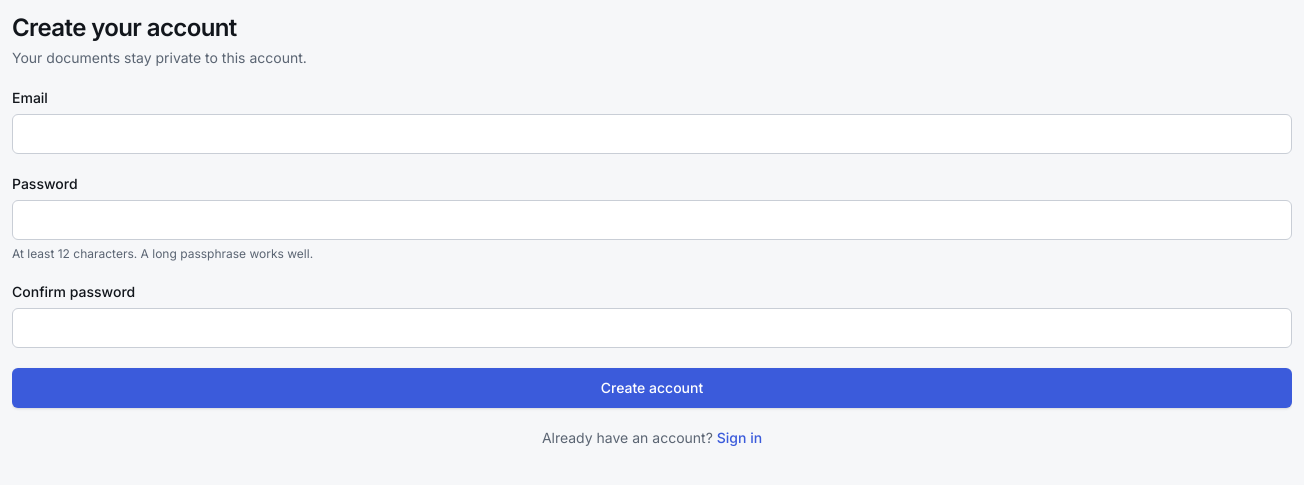
it: register form › enforces the password policy and the confirmation
Type "fixture@example.test" into the field labelled "Email" at (652, 134), box [12,114,1292,154]
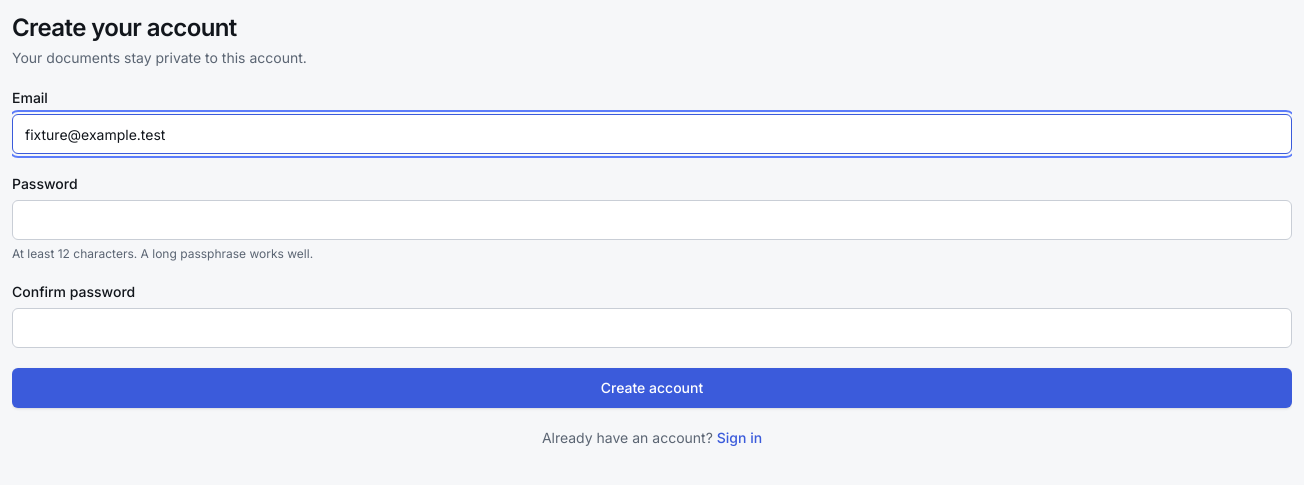
Type "short" into the password field labelled "Password" at (652, 220), box [12,200,1292,240]
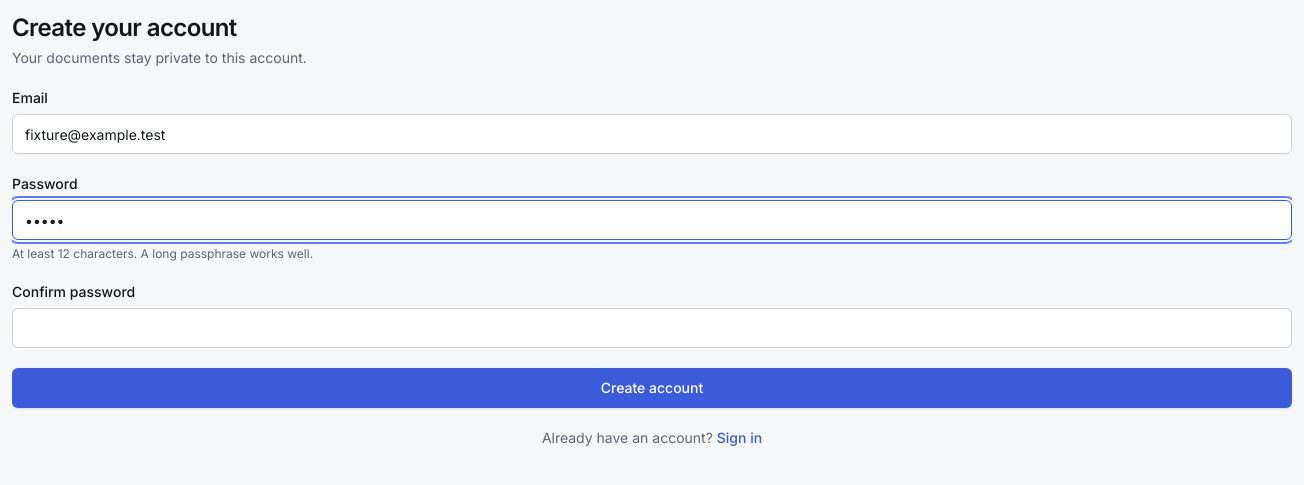
Type "different" into the password field labelled "Confirm password" at (652, 328), box [12,308,1292,348]
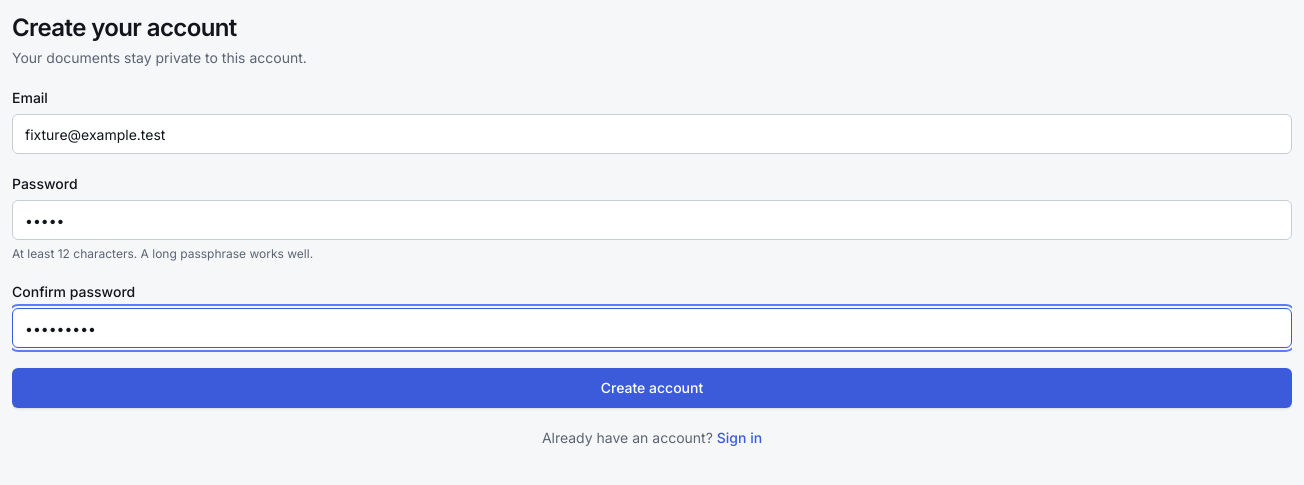
Click the button "Create account" at (652, 388), box [12,368,1292,408]
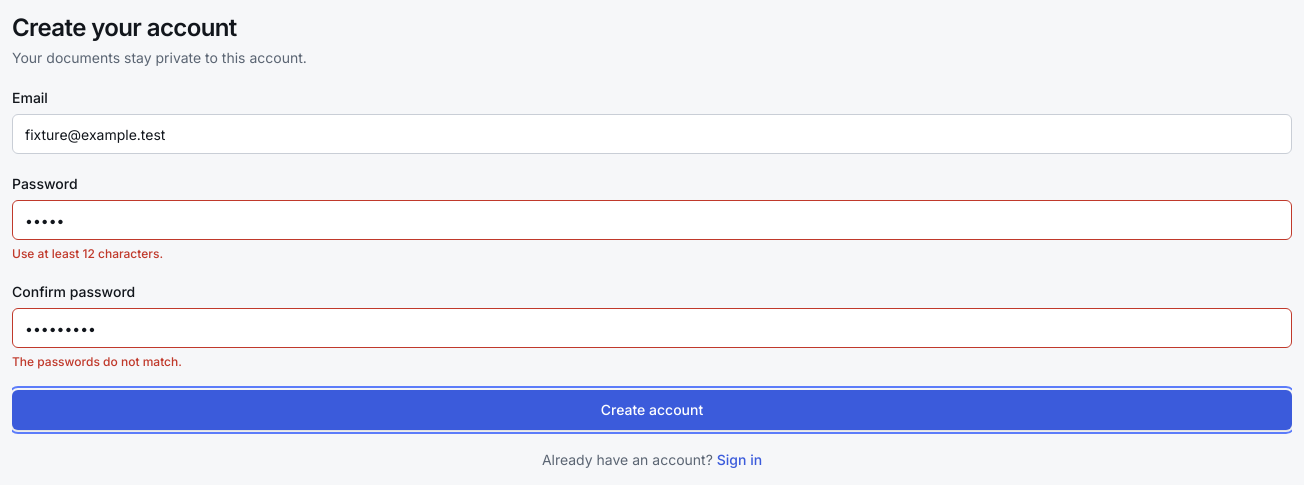
Expected: the text "Use at least 12 characters." is shown, [12,246,163,261]
Expected: the text "The passwords do not match." is shown, [12,354,182,369]
